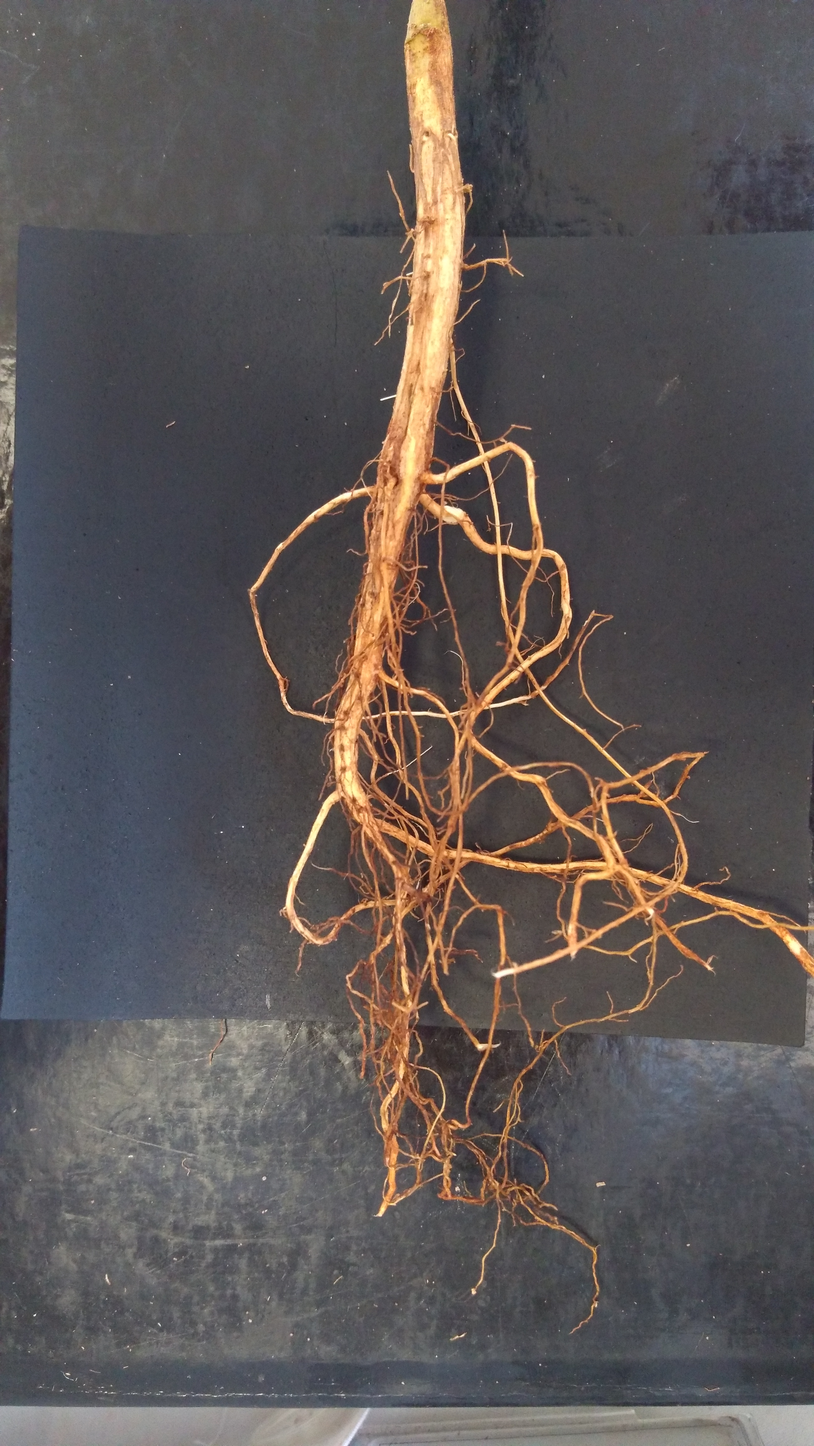nodule: (375, 1006, 394, 1026), (371, 514, 389, 532), (368, 525, 380, 545), (392, 1022, 407, 1038), (418, 214, 435, 225), (386, 476, 398, 491), (384, 484, 394, 500), (355, 593, 365, 606), (463, 183, 473, 194), (595, 1181, 606, 1188), (455, 1186, 460, 1192), (686, 775, 690, 780), (343, 672, 346, 677)
